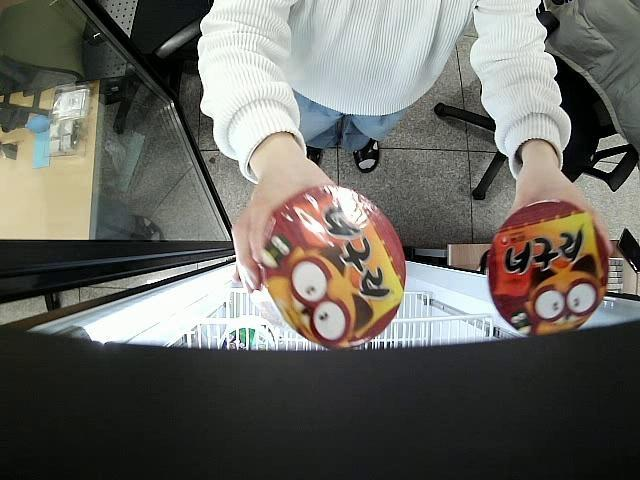05_nuguri_L: (256, 186, 405, 349), (486, 198, 611, 340)
